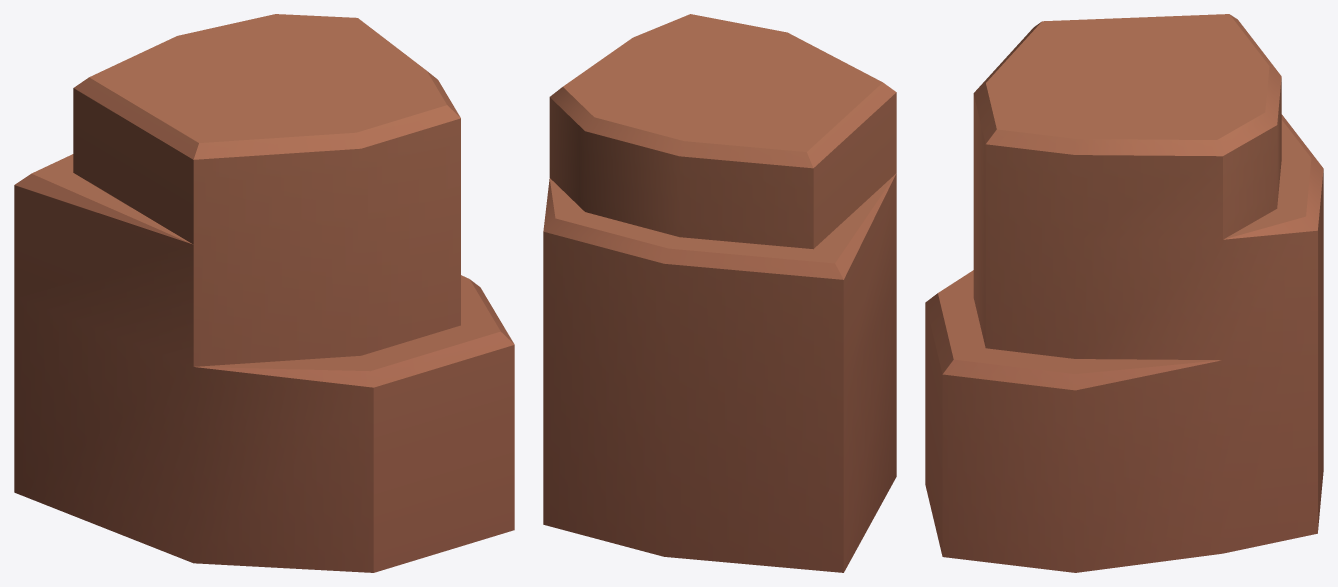
The model's file is Rock_1_G_Color8.fbx.
The picture shows the model from 3 angles, left to right: view 1: azimuth 30°, elevation 25°; view 2: azimuth 150°, elevation 25°; view 3: azimuth 270°, elevation 25°; orthographic projection. The views are drawn at different scales.
Visible parts, largest first — view 1: Rock_1_G_Color8; view 2: Rock_1_G_Color8; view 3: Rock_1_G_Color8.
Boxes of the visible parts, bbox=[...] form: Rock_1_G_Color8: bbox=[14, 14, 514, 572]; Rock_1_G_Color8: bbox=[543, 14, 896, 572]; Rock_1_G_Color8: bbox=[925, 14, 1323, 572].
Bounding box in the file's own units: 1.75 × 1.87 × 1.65.
